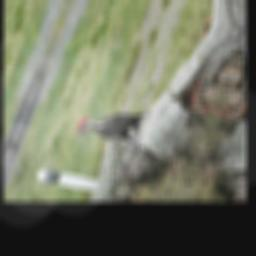Woodpecker: (68, 101, 148, 152)
